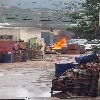fire: (52, 37, 66, 49)
